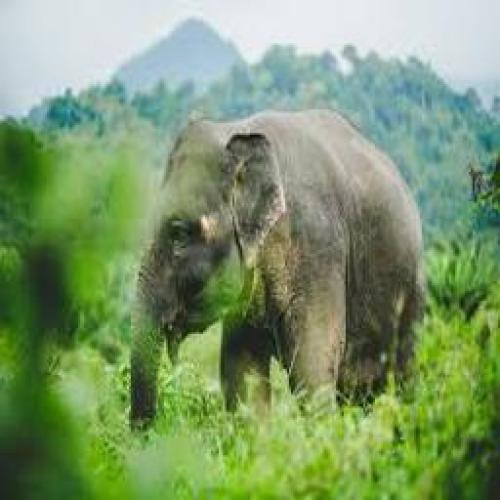african_elephant-endangered: (127, 111, 430, 427)
